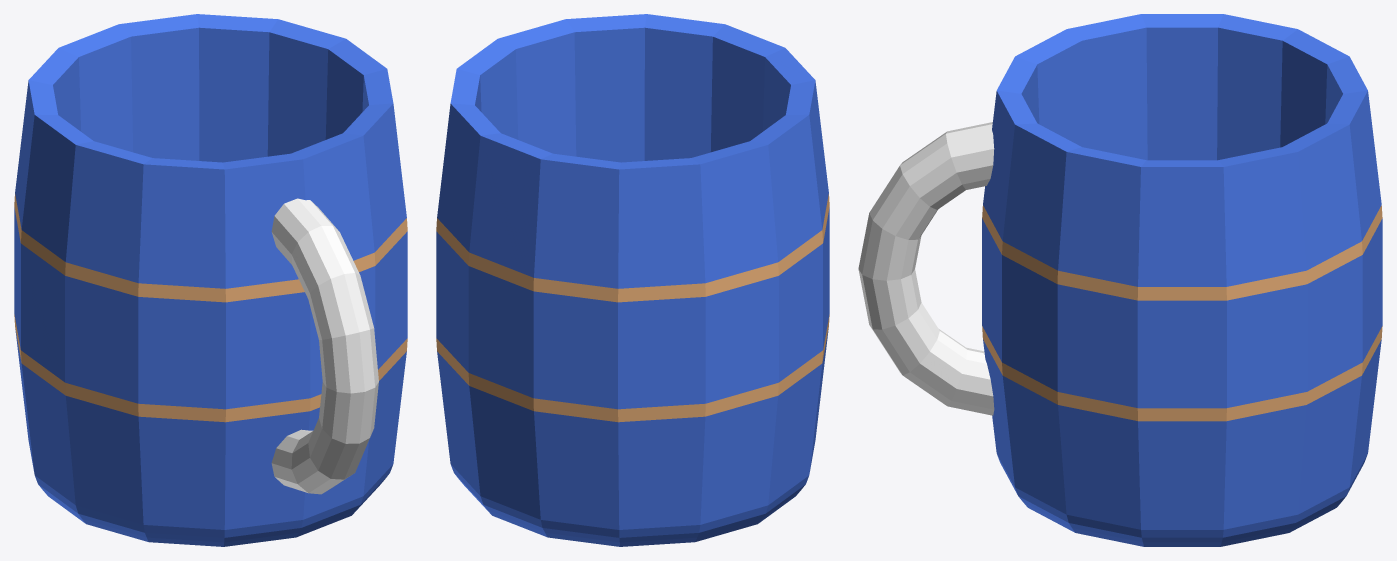
The model's file is Cup_13.fbx.
3 views of the same model, side by side, from view 1: azimuth 30°, elevation 25°; view 2: azimuth 150°, elevation 25°; view 3: azimuth 270°, elevation 25° (orthographic).
Visible parts, largest first — view 1: Cup_13; view 2: Cup_13; view 3: Cup_13.
Boxes of the visible parts, x1=… form: Cup_13: x1=14, y1=14, x2=407, y2=546; Cup_13: x1=436, y1=14, x2=829, y2=546; Cup_13: x1=858, y1=14, x2=1382, y2=546.
Size of the model in its own units: 0.0776 by 0.0846 by 0.1041.
